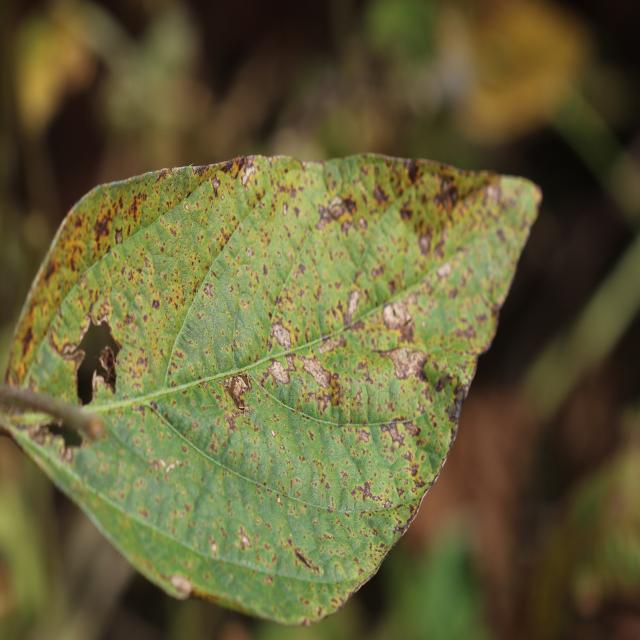Bacterial_Blight: (374, 345, 431, 382), (255, 307, 297, 350), (156, 265, 189, 315), (49, 334, 88, 375), (223, 372, 254, 415), (315, 196, 352, 231), (96, 345, 118, 393), (244, 153, 301, 171), (435, 175, 460, 216), (382, 300, 411, 330), (446, 384, 467, 425), (392, 507, 420, 537), (266, 358, 293, 386), (380, 421, 408, 448), (30, 421, 58, 448), (83, 413, 107, 442), (316, 331, 343, 355), (294, 547, 318, 572), (345, 288, 363, 321), (128, 191, 146, 222), (169, 574, 192, 597), (93, 299, 112, 326), (370, 344, 408, 357), (20, 325, 35, 357), (482, 181, 501, 206), (372, 180, 390, 205), (240, 161, 256, 187), (417, 231, 432, 256), (406, 160, 421, 183), (43, 261, 57, 283), (436, 261, 453, 279), (238, 529, 252, 550), (370, 263, 385, 281), (356, 428, 371, 444), (221, 159, 236, 175), (362, 481, 374, 500), (210, 175, 221, 195), (495, 228, 507, 244), (165, 460, 178, 474), (114, 227, 124, 245), (151, 459, 163, 472), (203, 282, 213, 296), (155, 169, 165, 183), (138, 507, 149, 519), (409, 464, 419, 477), (210, 540, 218, 555), (151, 298, 160, 310), (263, 575, 273, 585), (301, 617, 312, 626), (282, 202, 288, 217), (383, 499, 392, 509), (246, 246, 254, 257), (150, 400, 158, 411), (262, 264, 268, 276), (184, 203, 191, 212), (270, 428, 276, 437), (276, 496, 282, 505), (279, 444, 285, 451)
Soybean: (0, 155, 540, 624)
